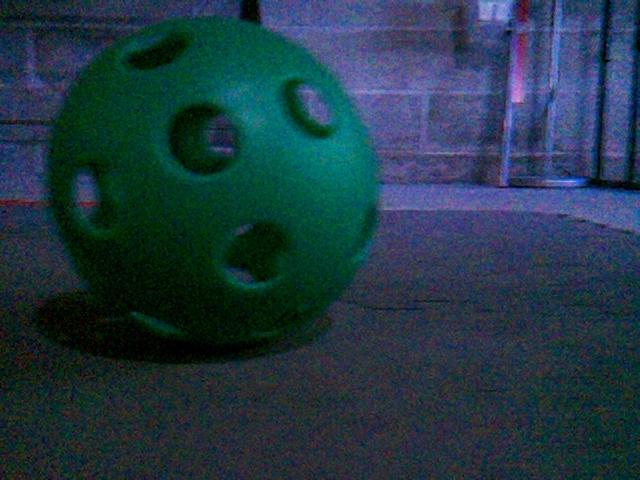Green: (46, 17, 382, 347)
